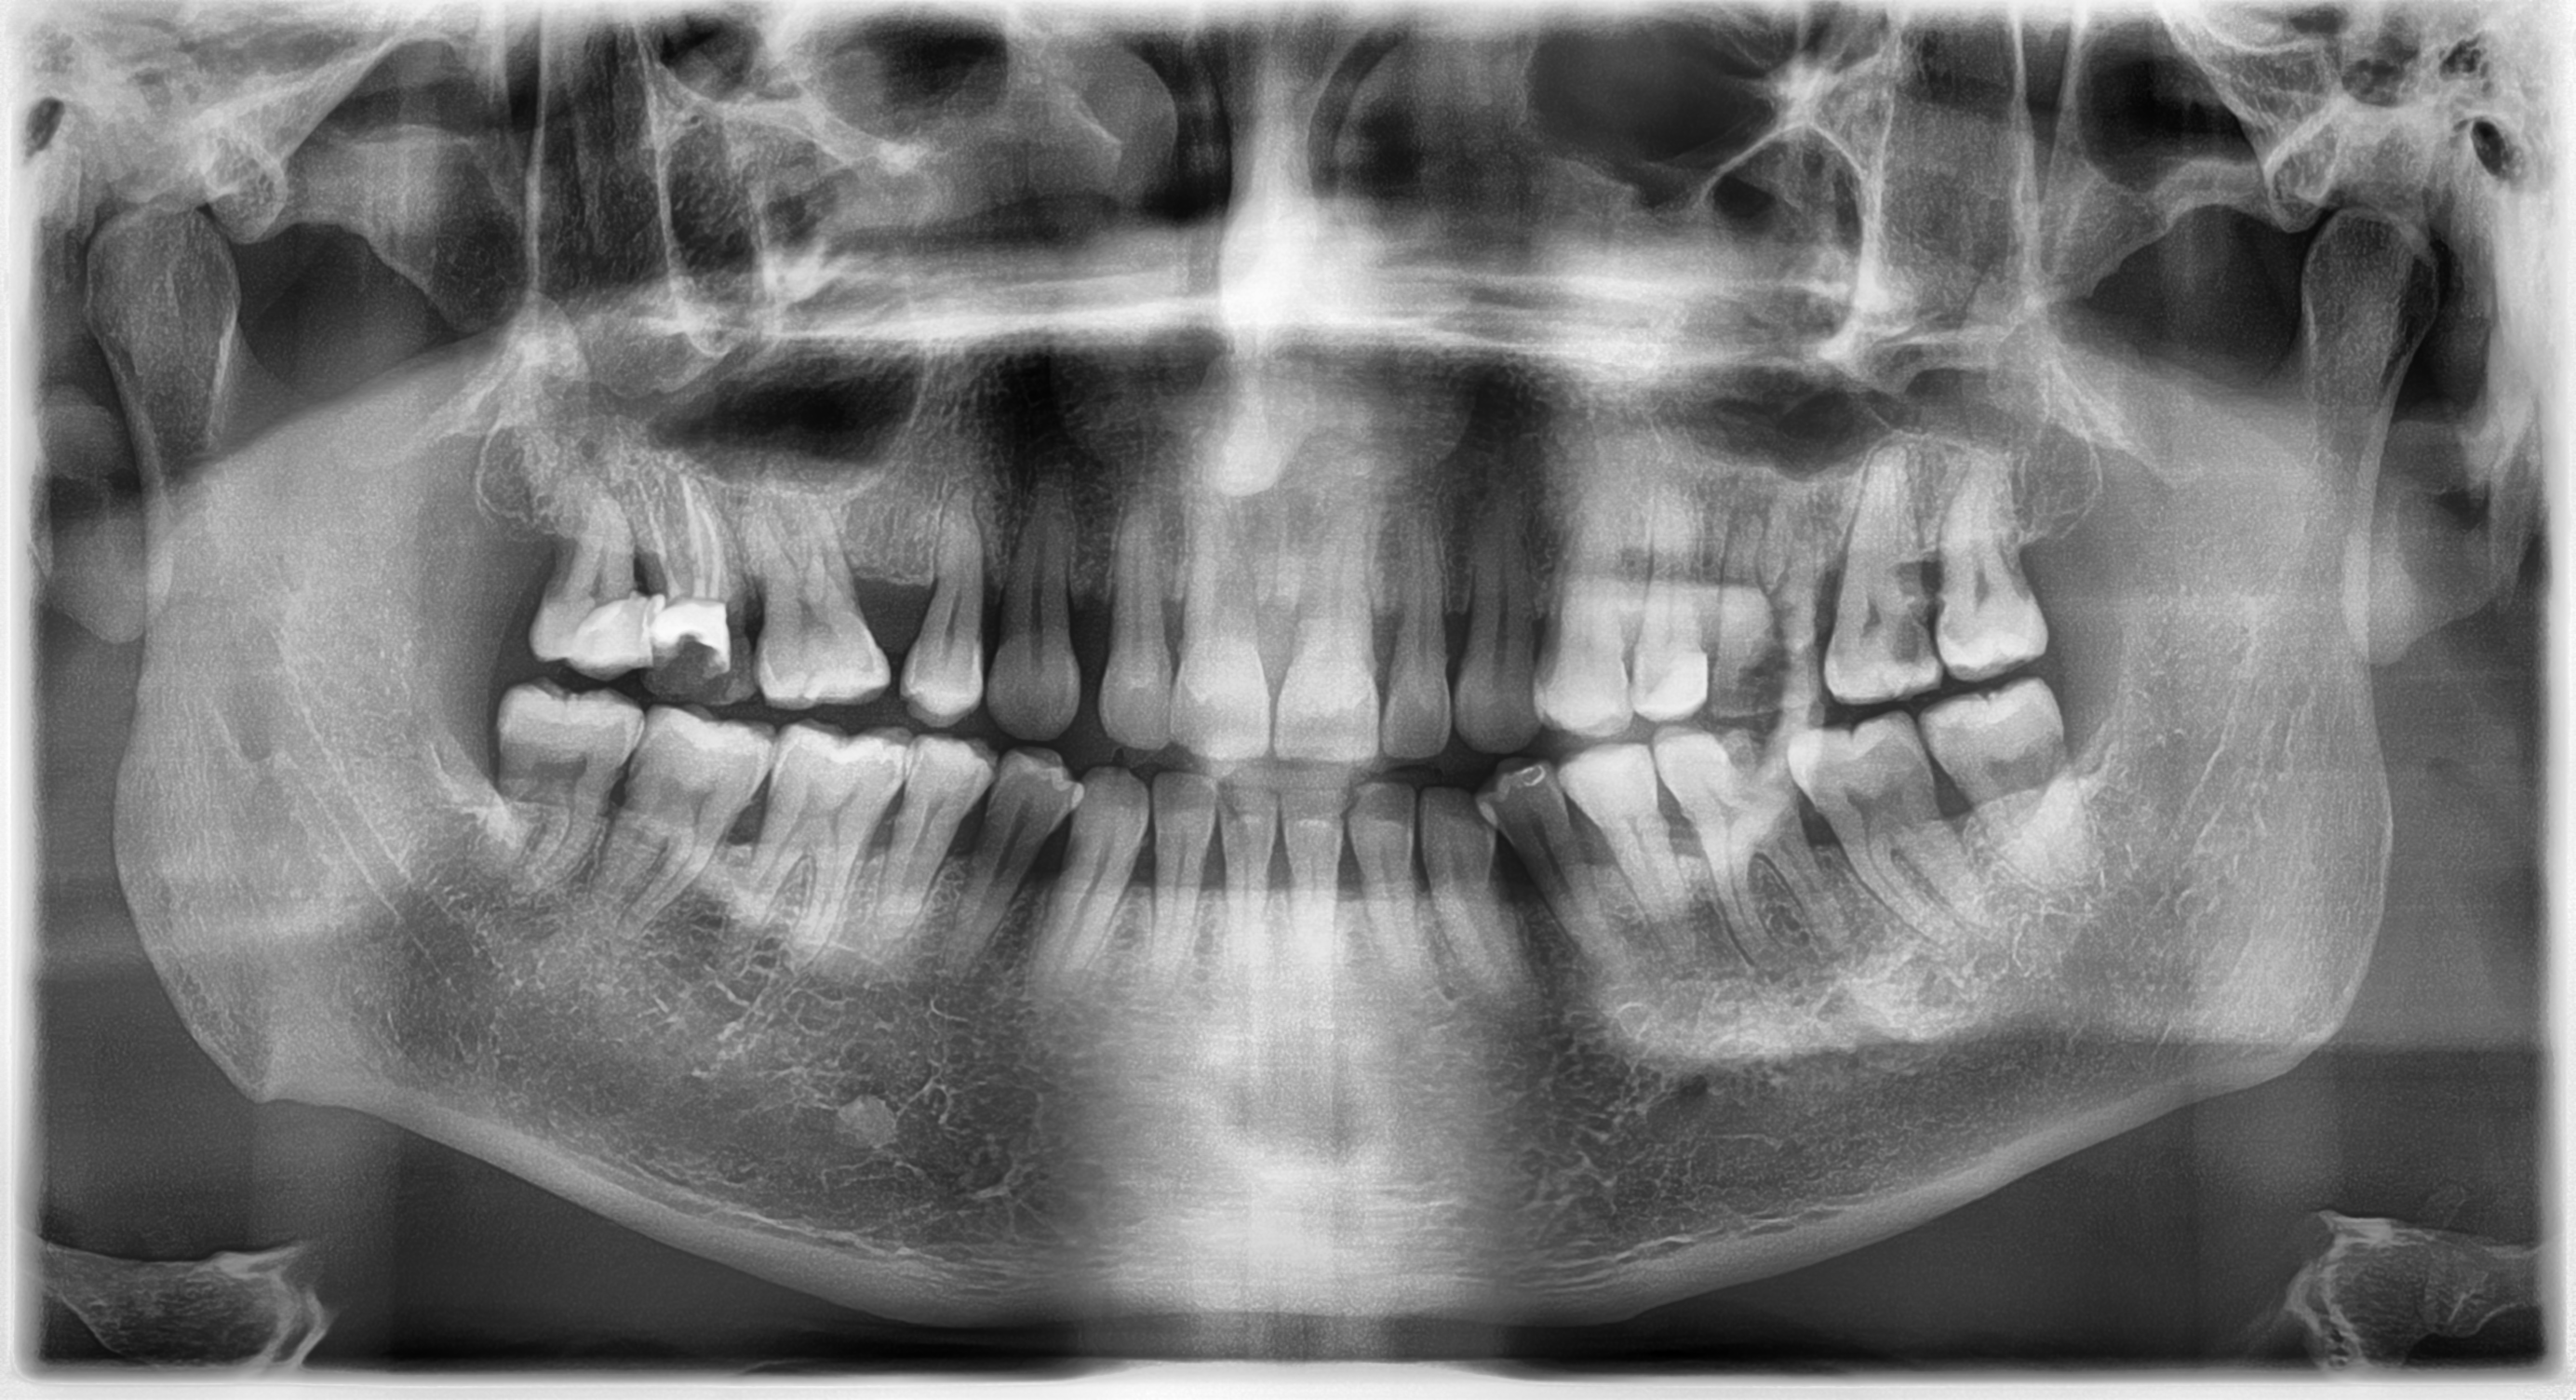cordal: (1911, 672, 2137, 919), (1897, 419, 2095, 697), (472, 660, 656, 926), (517, 472, 675, 690)
tratamiento_conducto: (1651, 722, 1840, 853), (1697, 576, 1837, 719)
